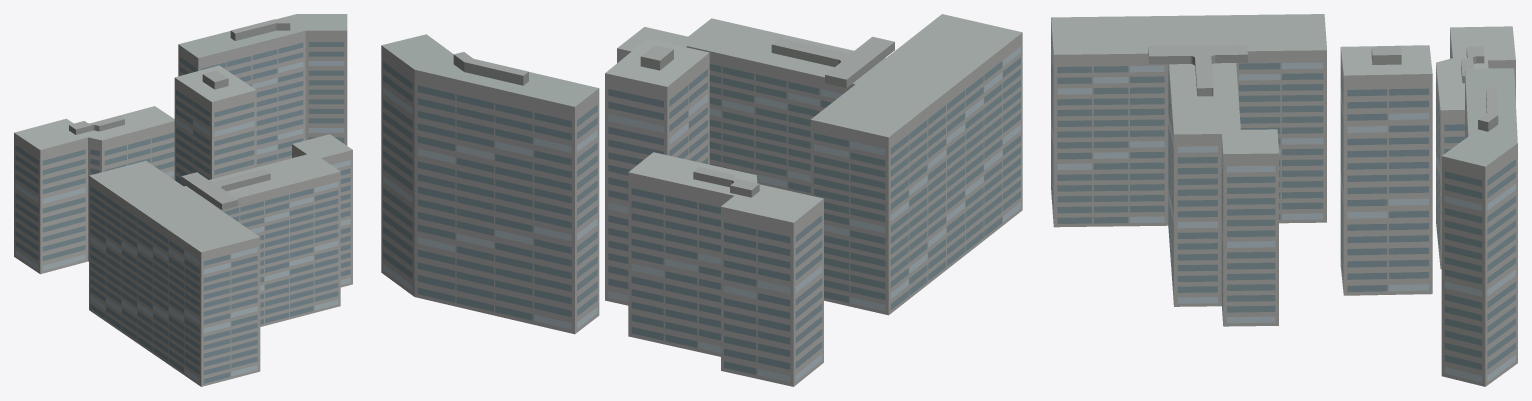
Rendered from apt-a15805101.glb.
The picture shows the model from 3 angles, left to right: view 1: azimuth 30°, elevation 25°; view 2: azimuth 150°, elevation 25°; view 3: azimuth 270°, elevation 25°; orthographic projection. The views are drawn at different scales.
Visible parts, largest first — view 1: apt-a15805101; view 2: apt-a15805101; view 3: apt-a15805101.
Boxes of the visible parts, x1,y1,x2,y2 form: apt-a15805101: (14, 14, 352, 386); apt-a15805101: (381, 14, 1022, 386); apt-a15805101: (1051, 14, 1517, 386).
Bounding box in the file's own units: 108 × 57.3 × 105.
